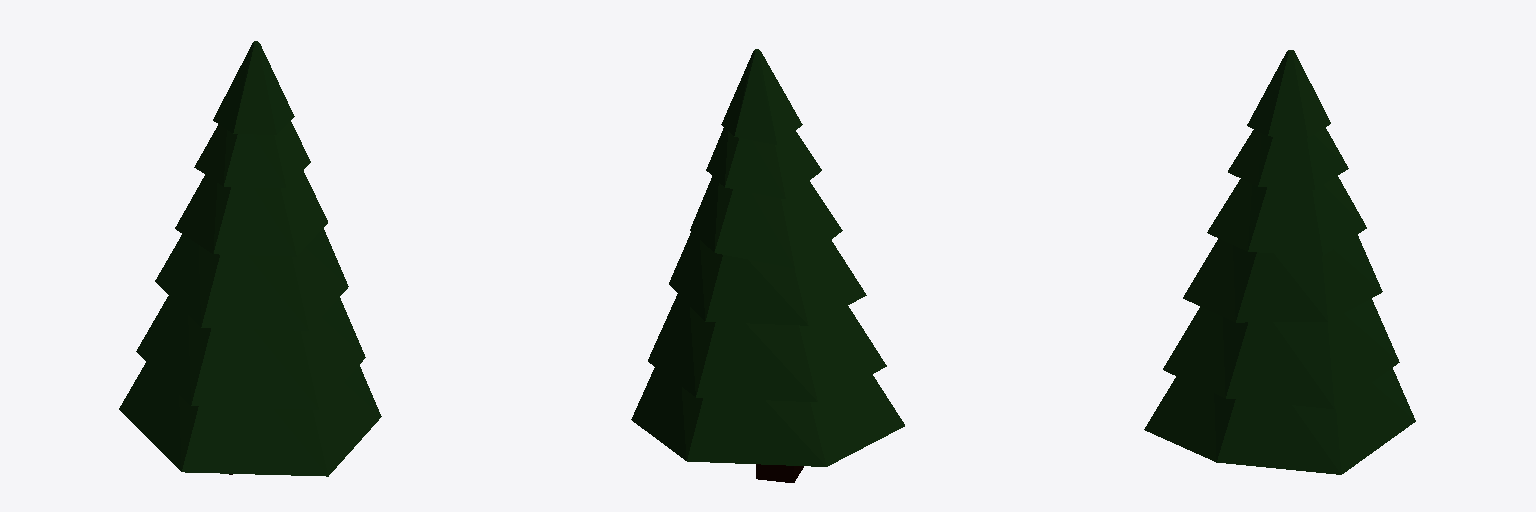
Rendered from pine.obj.
3 views of the same model, side by side, from view 1: azimuth 30°, elevation 25°; view 2: azimuth 150°, elevation 25°; view 3: azimuth 270°, elevation 25° (orthographic).
Visible parts, largest first — view 1: Pine_Tree_Mesh.002; view 2: Pine_Tree_Mesh.002; view 3: Pine_Tree_Mesh.002.
Boxes of the visible parts, <box> form: Pine_Tree_Mesh.002: <box>119,41,381,476</box>; Pine_Tree_Mesh.002: <box>631,49,904,482</box>; Pine_Tree_Mesh.002: <box>1144,50,1415,474</box>.
Bounding box in the file's own units: 119 × 223 × 132.